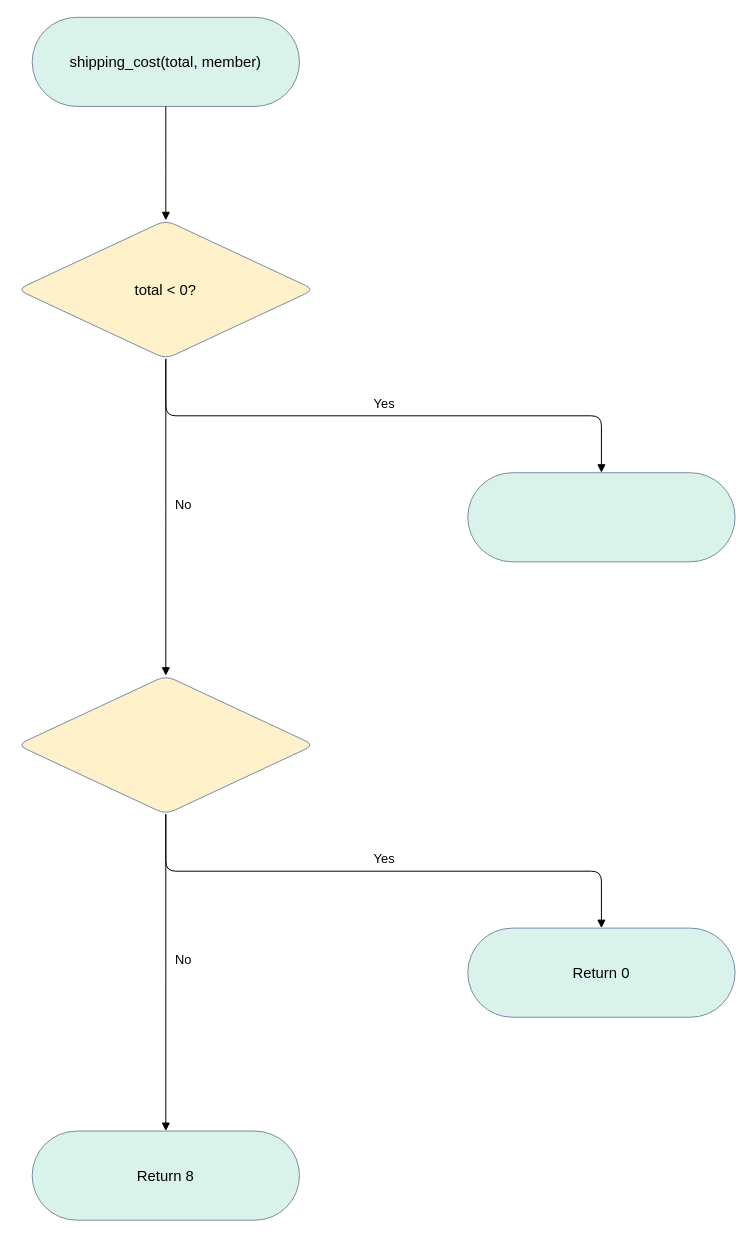
Image size: 752x1238. Some labels were removed from this diagram. Each missing label, with the box of its shape:
member OR total >= 100?: (16, 675, 314, 814)
Return None: (467, 472, 735, 562)
